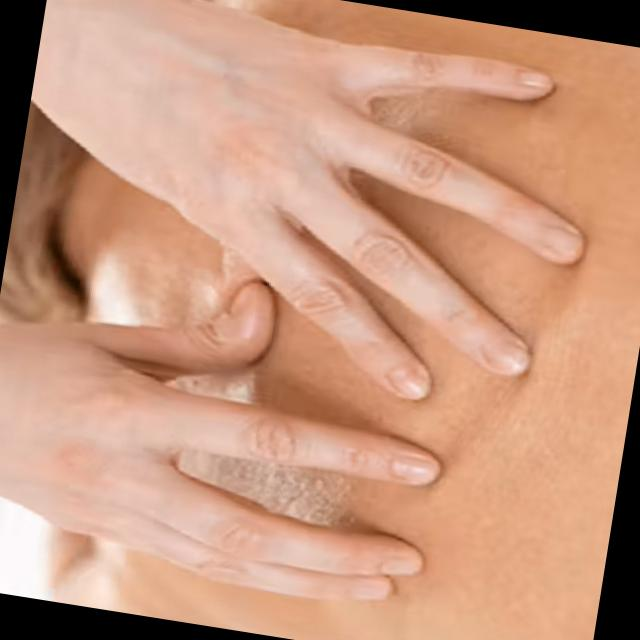Nail: (481, 339, 532, 372), (386, 364, 434, 397), (387, 455, 437, 481), (542, 226, 582, 256), (227, 280, 260, 316), (352, 577, 391, 600), (382, 557, 424, 575), (514, 71, 555, 87)
